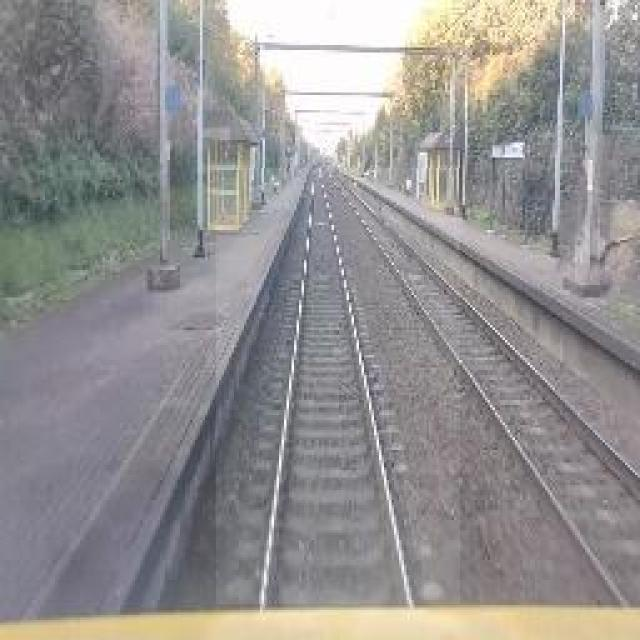rail: (218, 169, 461, 605)
